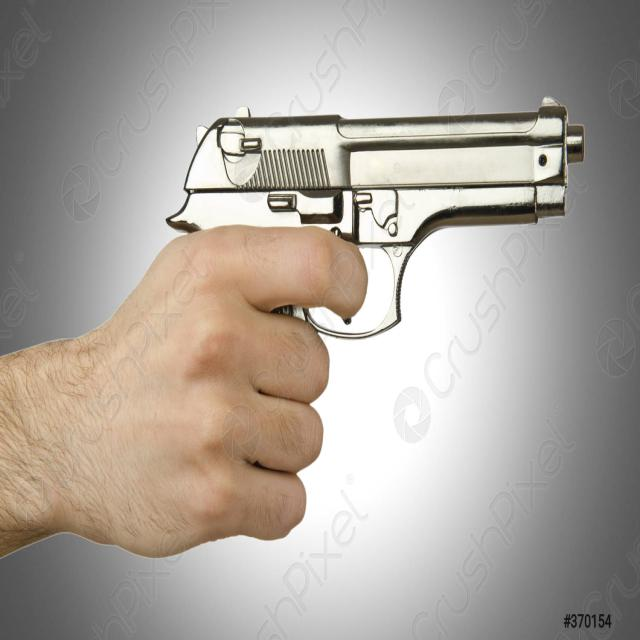HandGun: (164, 97, 585, 341)
